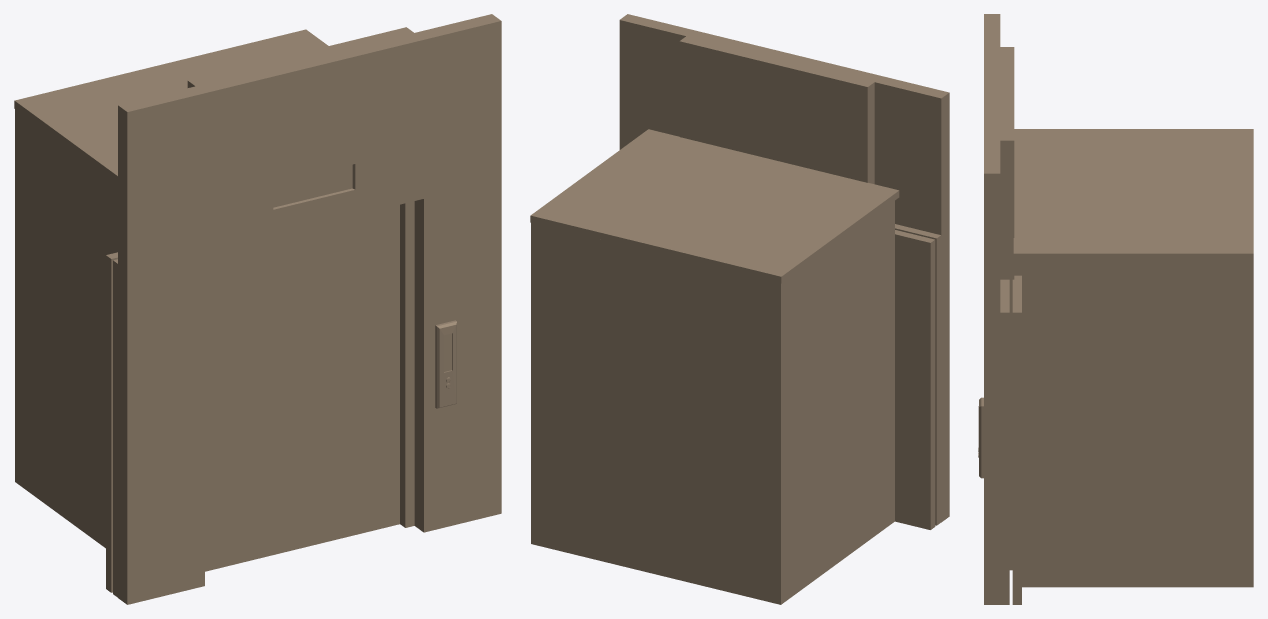
File: elevator.fbx
3 views of the same model, side by side, from view 1: azimuth 30°, elevation 25°; view 2: azimuth 150°, elevation 25°; view 3: azimuth 270°, elevation 25° (orthographic). The views are drawn at different scales.
Visible parts, largest first — view 1: polySurface131, polySurface115, ele_door_ri, ele_door_lf, ele_celling, polySurface118, polySurface117, polySurface126, polySurface119; view 2: polySurface115, polySurface131, ele_celling, polySurface117, polySurface119, polySurface325; view 3: polySurface115, ele_celling, polySurface131, polySurface116, polySurface118, polySurface324, ele_door_ri, polySurface126.
Part boxes in pixels (left/top/right/bottom): polySurface131: left=118, top=14, right=501, bottom=604; polySurface115: left=15, top=109, right=117, bottom=548; ele_door_ri: left=302, top=204, right=399, bottom=547; ele_door_lf: left=205, top=228, right=301, bottom=571; ele_celling: left=14, top=29, right=328, bottom=183; polySurface118: left=400, top=201, right=414, bottom=527; polySurface117: left=106, top=252, right=117, bottom=592; polySurface126: left=435, top=320, right=456, bottom=408; polySurface119: left=113, top=259, right=117, bottom=597; polySurface115: left=531, top=201, right=894, bottom=604; polySurface131: left=619, top=14, right=949, bottom=522; ele_celling: left=530, top=129, right=899, bottom=283; polySurface117: left=895, top=230, right=935, bottom=529; polySurface119: left=895, top=224, right=941, bottom=525; polySurface325: left=892, top=201, right=894, bottom=523; polySurface115: left=1022, top=260, right=1253, bottom=587; ele_celling: left=1013, top=129, right=1253, bottom=260; polySurface131: left=984, top=14, right=1014, bottom=604; polySurface116: left=1012, top=275, right=1021, bottom=604; polySurface118: left=1000, top=279, right=1009, bottom=604; polySurface324: left=1024, top=260, right=1029, bottom=579; ele_door_ri: left=1009, top=279, right=1012, bottom=570; polySurface126: left=978, top=397, right=983, bottom=478.
Bounding box in the file's own units: 355 × 448 × 259.
